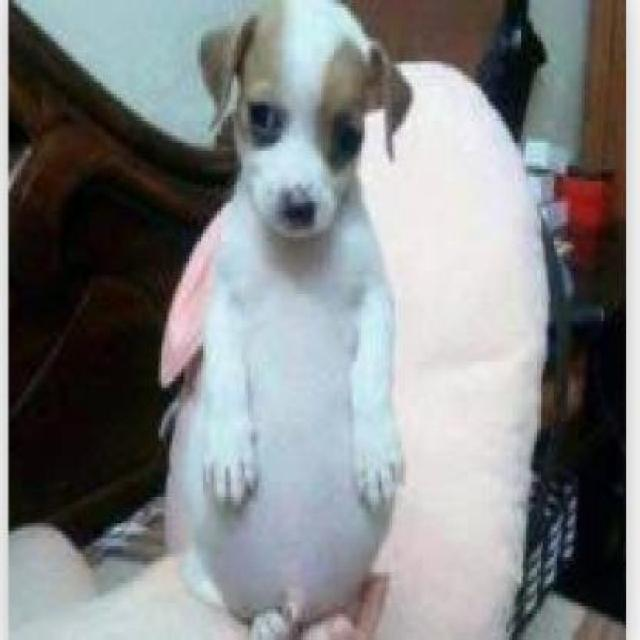Dog: (175, 5, 417, 637)
